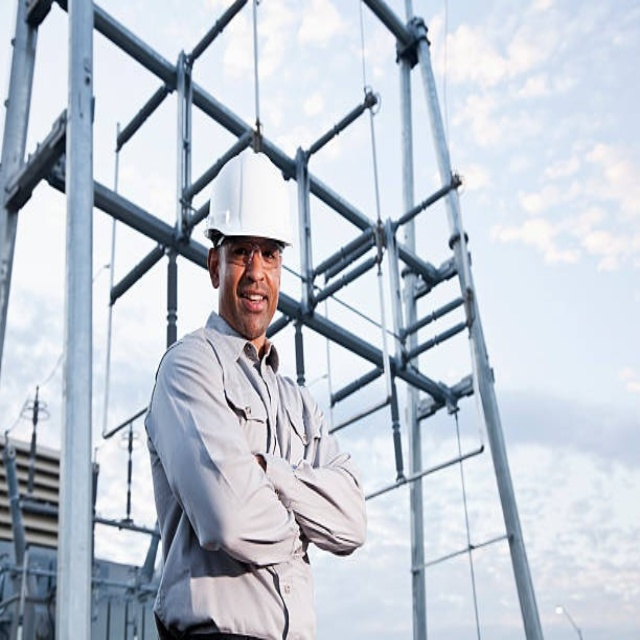Gafas: (219, 241, 285, 269)
Sin_mascara: (238, 282, 271, 325)
